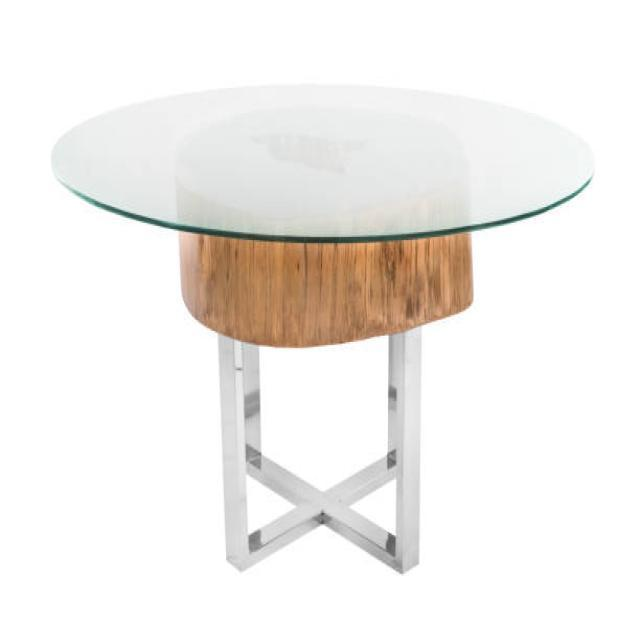table: (50, 78, 595, 576)
